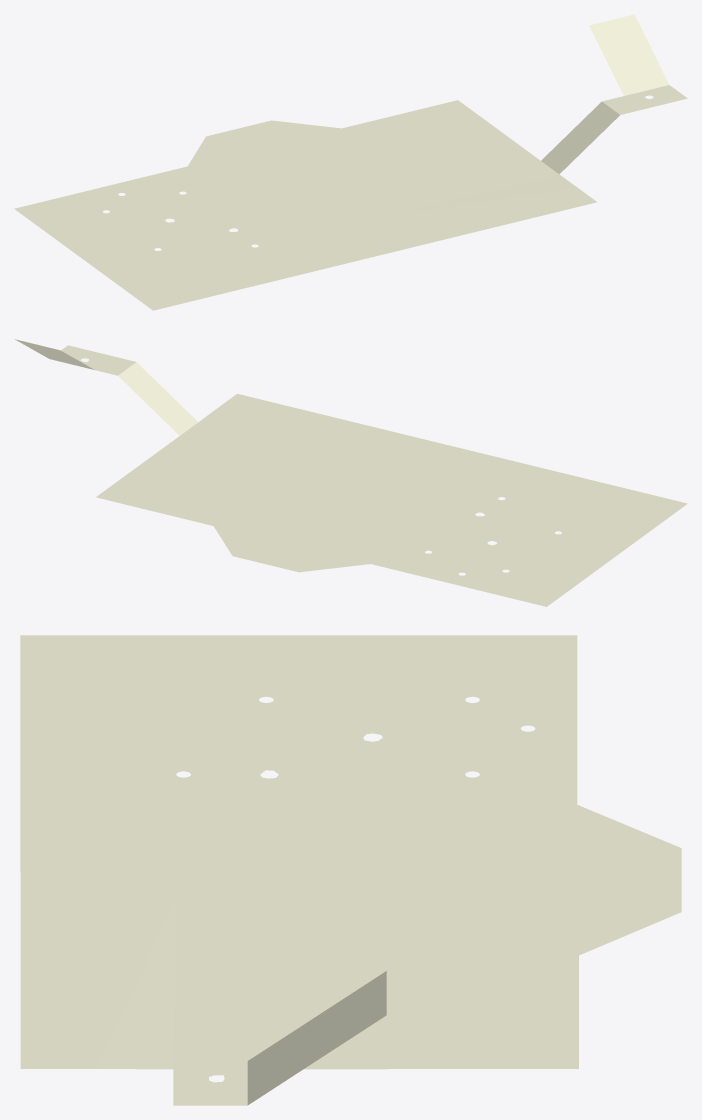
Rendered from kitchen-ceiling.obj.
3 views of the same model, one above another, from view 1: azimuth 30°, elevation 25°; view 2: azimuth 150°, elevation 25°; view 3: azimuth 270°, elevation 25° (orthographic). The views are drawn at different scales.
Visible parts, largest first — view 1: ceiling.002_Cube.007; view 2: ceiling.002_Cube.007; view 3: ceiling.002_Cube.007.
Boxes of the visible parts, left/top/right/bottom form: ceiling.002_Cube.007: left=14, top=14, right=687, bottom=310; ceiling.002_Cube.007: left=15, top=339, right=687, bottom=606; ceiling.002_Cube.007: left=20, top=635, right=681, bottom=1105.
Bounding box in the file's own units: 41.06 × 6.15 × 20.53.
Materials: 1 (1 with a texture image).
